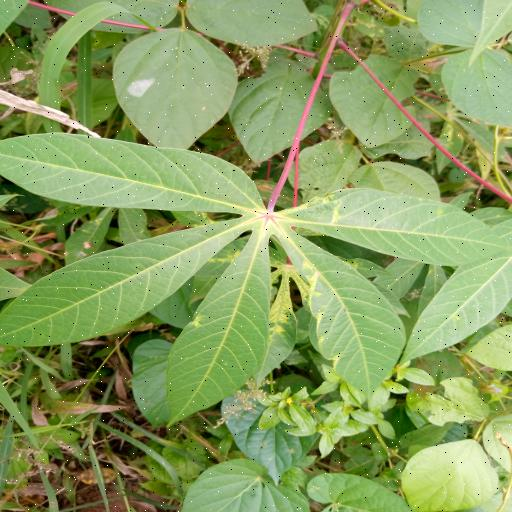Cassava_Mosaic: (0, 130, 512, 429)
